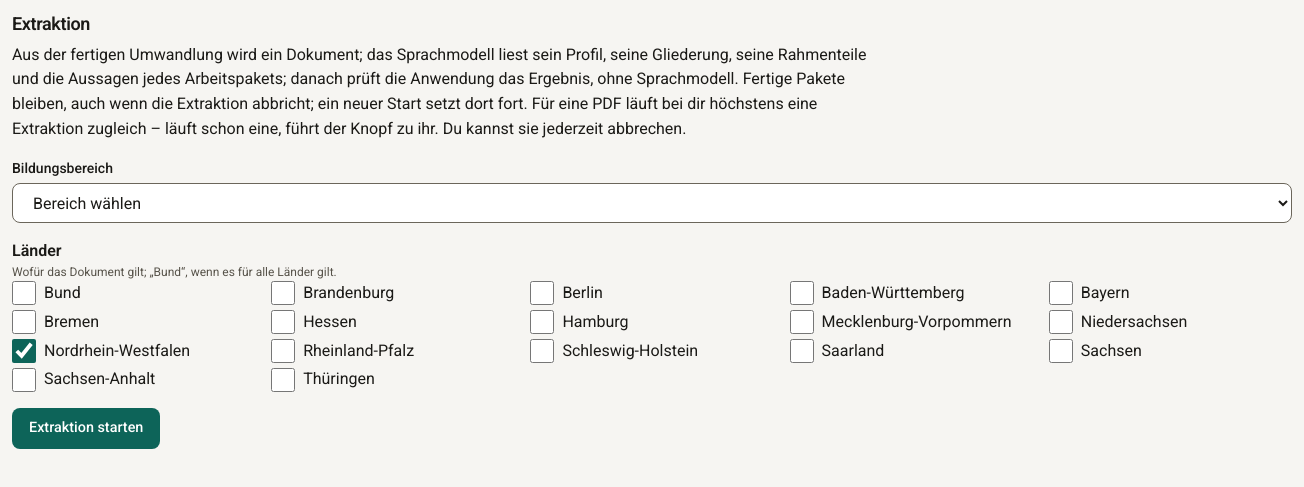
it: the start of an extraction from a finished conversion › says a refusal in its own words and keeps what was chosen
Select "Berufsbildung" in the dropdown with id "extraction-sector" at (652, 204), box [12,184,1292,224]
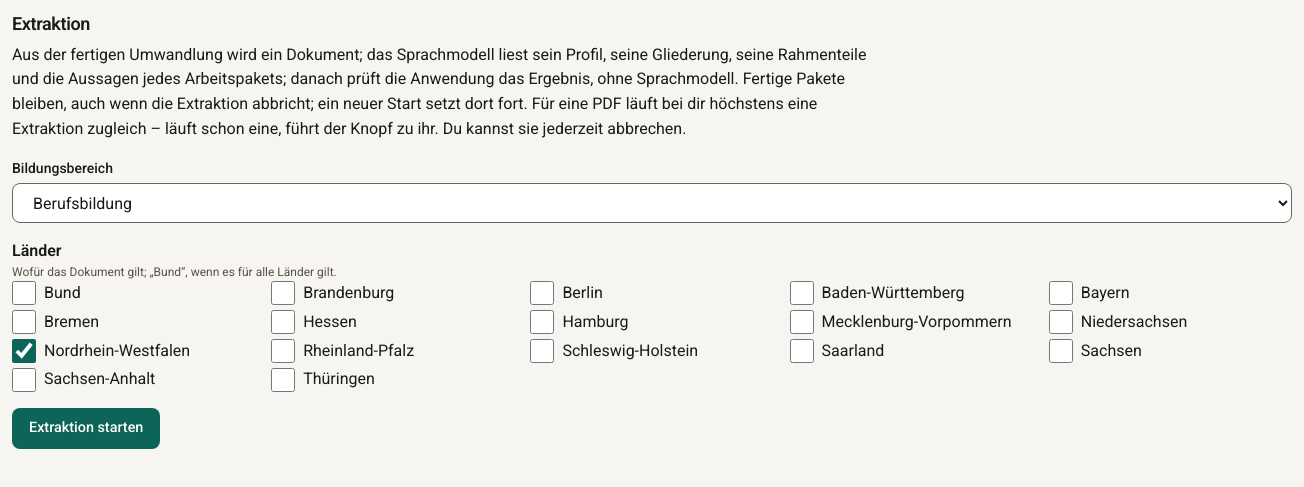
Submit the form, box [12,158,1292,449]
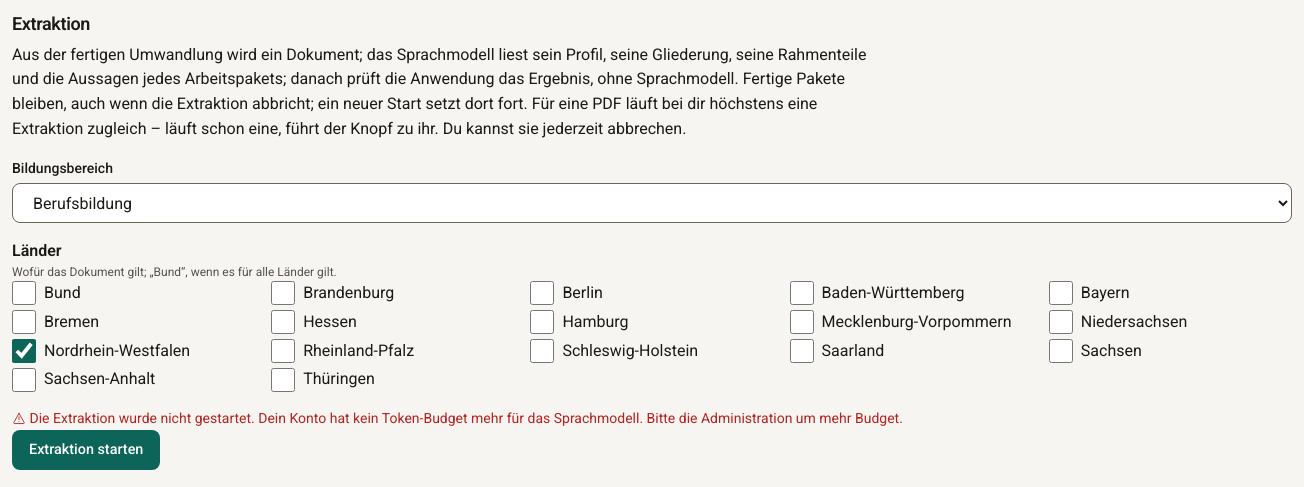
Result: the message shows "Dein Konto hat kein Token-Budget mehr für das Sprachmodell. Bitte die Administration um mehr Budget." at [258,410,903,426]
